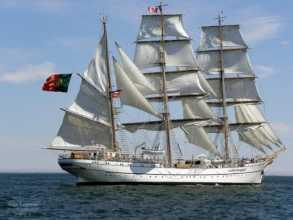fanchuan: (40, 11, 284, 183)
